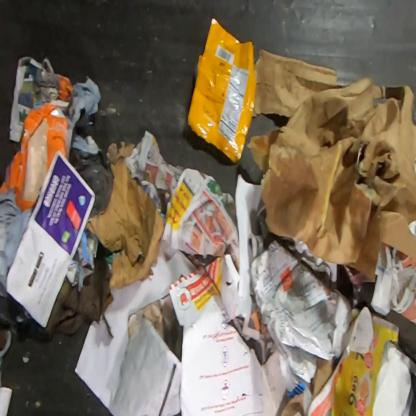cardboard: (0, 102, 69, 211), (128, 293, 184, 363), (308, 357, 335, 399)
soft_plastic: (186, 17, 257, 164)
